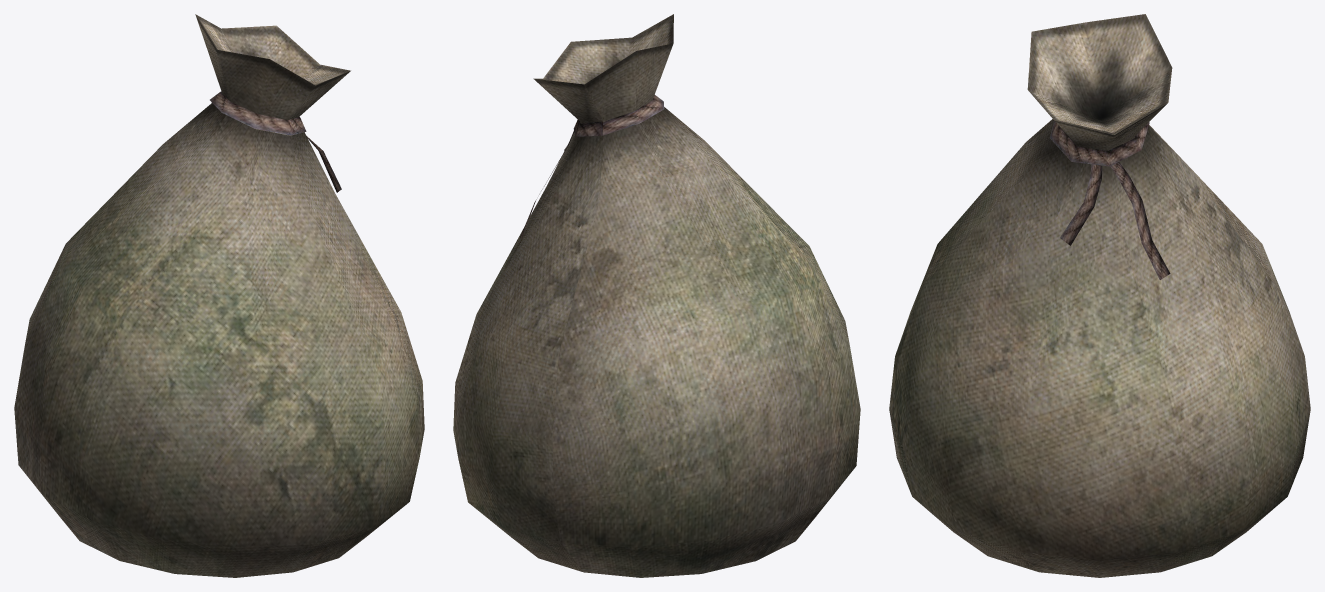
Rendered from bag.FBX.
3 renders of one model, left to right at view 1: azimuth 30°, elevation 25°; view 2: azimuth 150°, elevation 25°; view 3: azimuth 270°, elevation 25°, orthographic. The views are drawn at different scales.
Parts seen in each view (by area): view 1: bag; view 2: bag; view 3: bag.
Part boxes in pixels (left/top/right/bottom): bag: left=14, top=14, right=424, bottom=577; bag: left=453, top=14, right=860, bottom=577; bag: left=889, top=14, right=1310, bottom=577.
Bounding box in the file's own units: 33.74 × 33.89 × 45.04.
